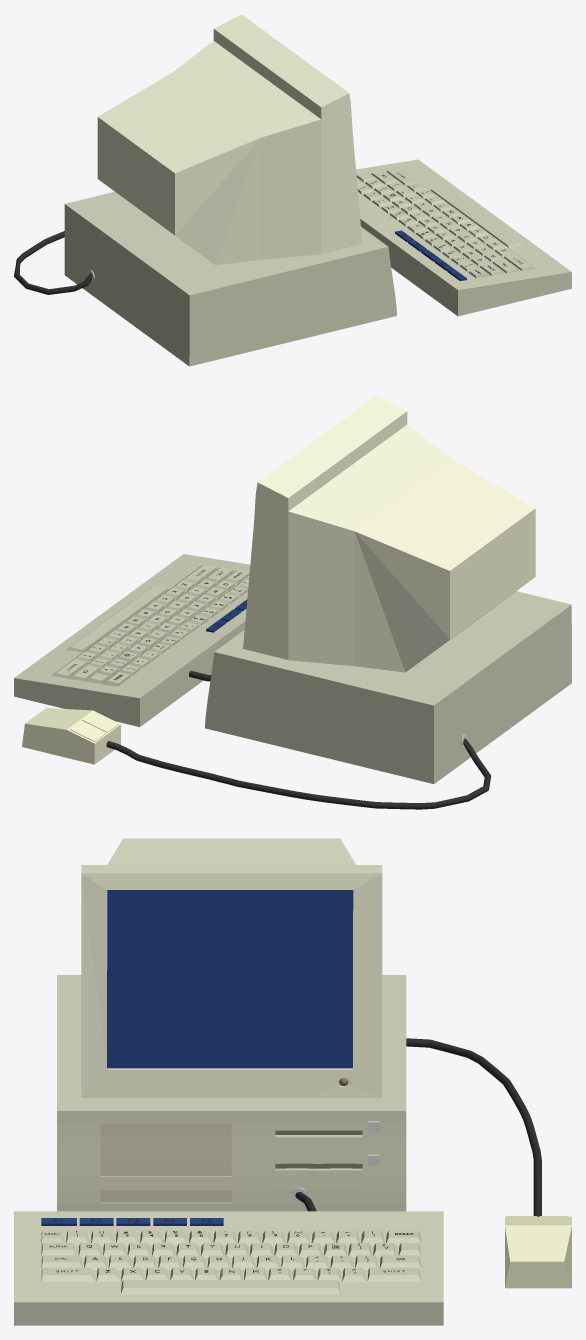
Rendered from Computer.blend.fbx.
The picture shows the model from 3 angles, top to bottom: view 1: azimuth 30°, elevation 25°; view 2: azimuth 150°, elevation 25°; view 3: azimuth 270°, elevation 25°; orthographic projection. The views are drawn at different scales.
Visible parts, largest first — view 1: Cube.001, Cube, Cube.003, Cylinder; view 2: Cube.001, Cube, Cube.003, Cube.002, Cylinder; view 3: Cube.001, Cube.003, Cube, Cube.002, Cylinder.
Part boxes in pixels (left/top/right/bottom): Cube.001: left=97, top=14, right=362, bottom=265; Cube: left=64, top=191, right=396, bottom=366; Cube.003: left=356, top=159, right=571, bottom=316; Cylinder: left=14, top=231, right=92, bottom=294; Cube.001: left=243, top=395, right=535, bottom=672; Cube: left=205, top=591, right=571, bottom=783; Cube.003: left=14, top=554, right=250, bottom=727; Cube.002: left=22, top=708, right=120, bottom=764; Cylinder: left=106, top=738, right=491, bottom=809; Cube.001: left=81, top=838, right=382, bottom=1097; Cube.003: left=14, top=1211, right=443, bottom=1325; Cube: left=57, top=975, right=406, bottom=1211; Cube.002: left=505, top=1216, right=571, bottom=1288; Cylinder: left=406, top=1038, right=541, bottom=1216.
Size of the model in its own units: 395 by 207 by 331.
